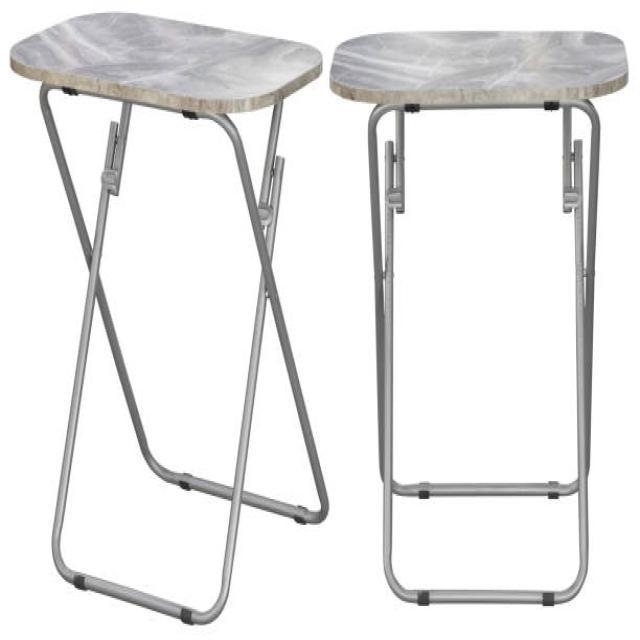table: (9, 10, 328, 624), (328, 28, 628, 606)
